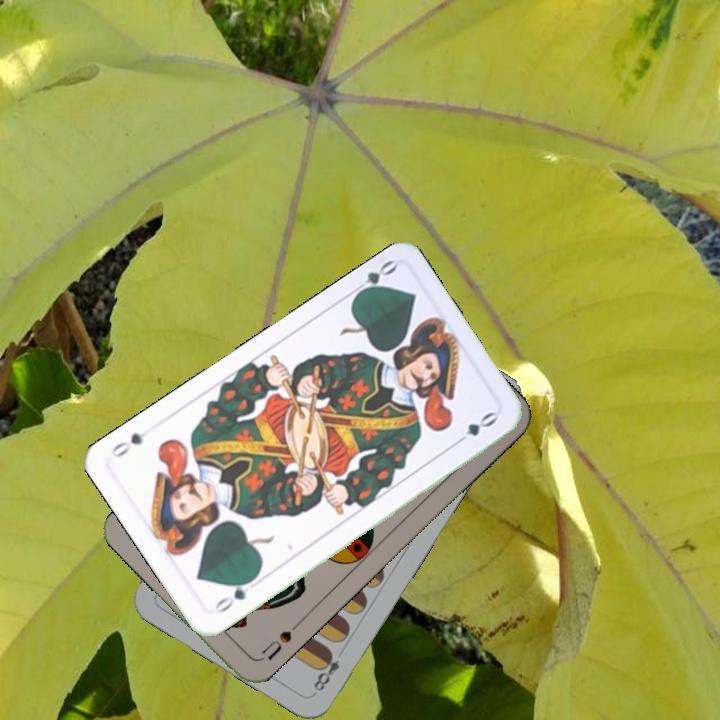E8: (309, 646, 343, 696)
GO: (346, 256, 399, 301), (211, 573, 258, 616)
SU: (255, 619, 302, 664)
